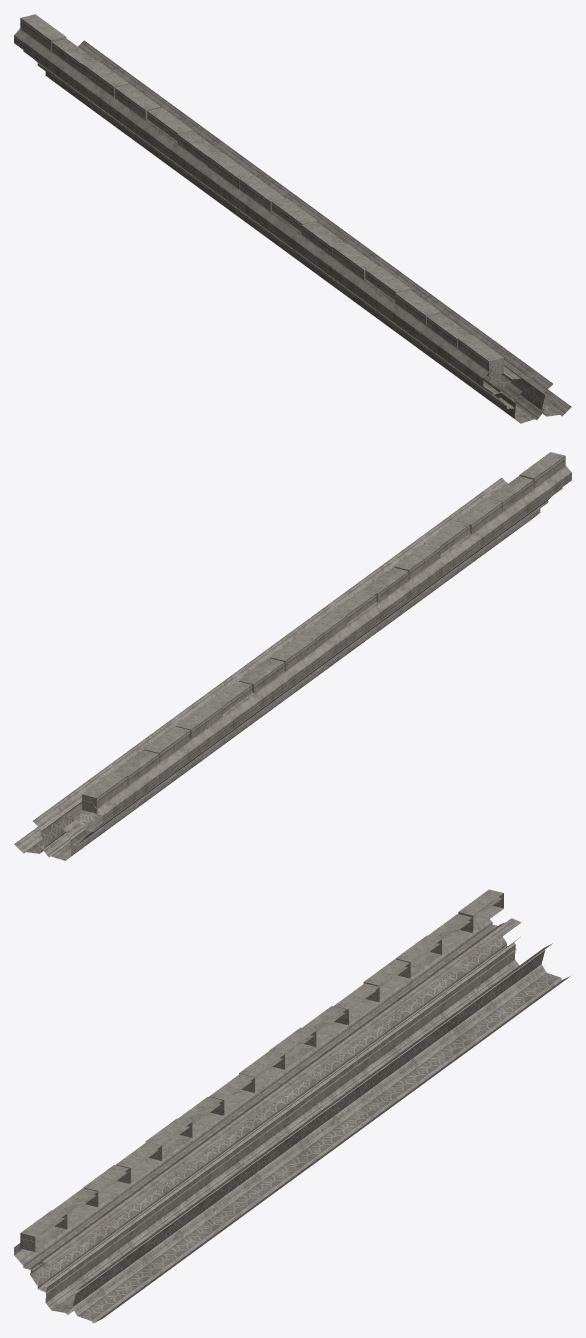
Rendered from SM_support_bar.fbx.
3 renders of one model, top to bottom at view 1: azimuth 30°, elevation 25°; view 2: azimuth 150°, elevation 25°; view 3: azimuth 330°, elevation 25°, orthographic.
Parts seen in each view (by area): view 1: SM_support_bar_LOD0; view 2: SM_support_bar_LOD0; view 3: SM_support_bar_LOD0.
Boxes of the visible parts, x1,y1,x2,y2 form: SM_support_bar_LOD0: (14, 14, 571, 423); SM_support_bar_LOD0: (14, 452, 571, 860); SM_support_bar_LOD0: (14, 889, 570, 1323).
Bounding box in the file's own units: 109 × 1000 × 85.94.
